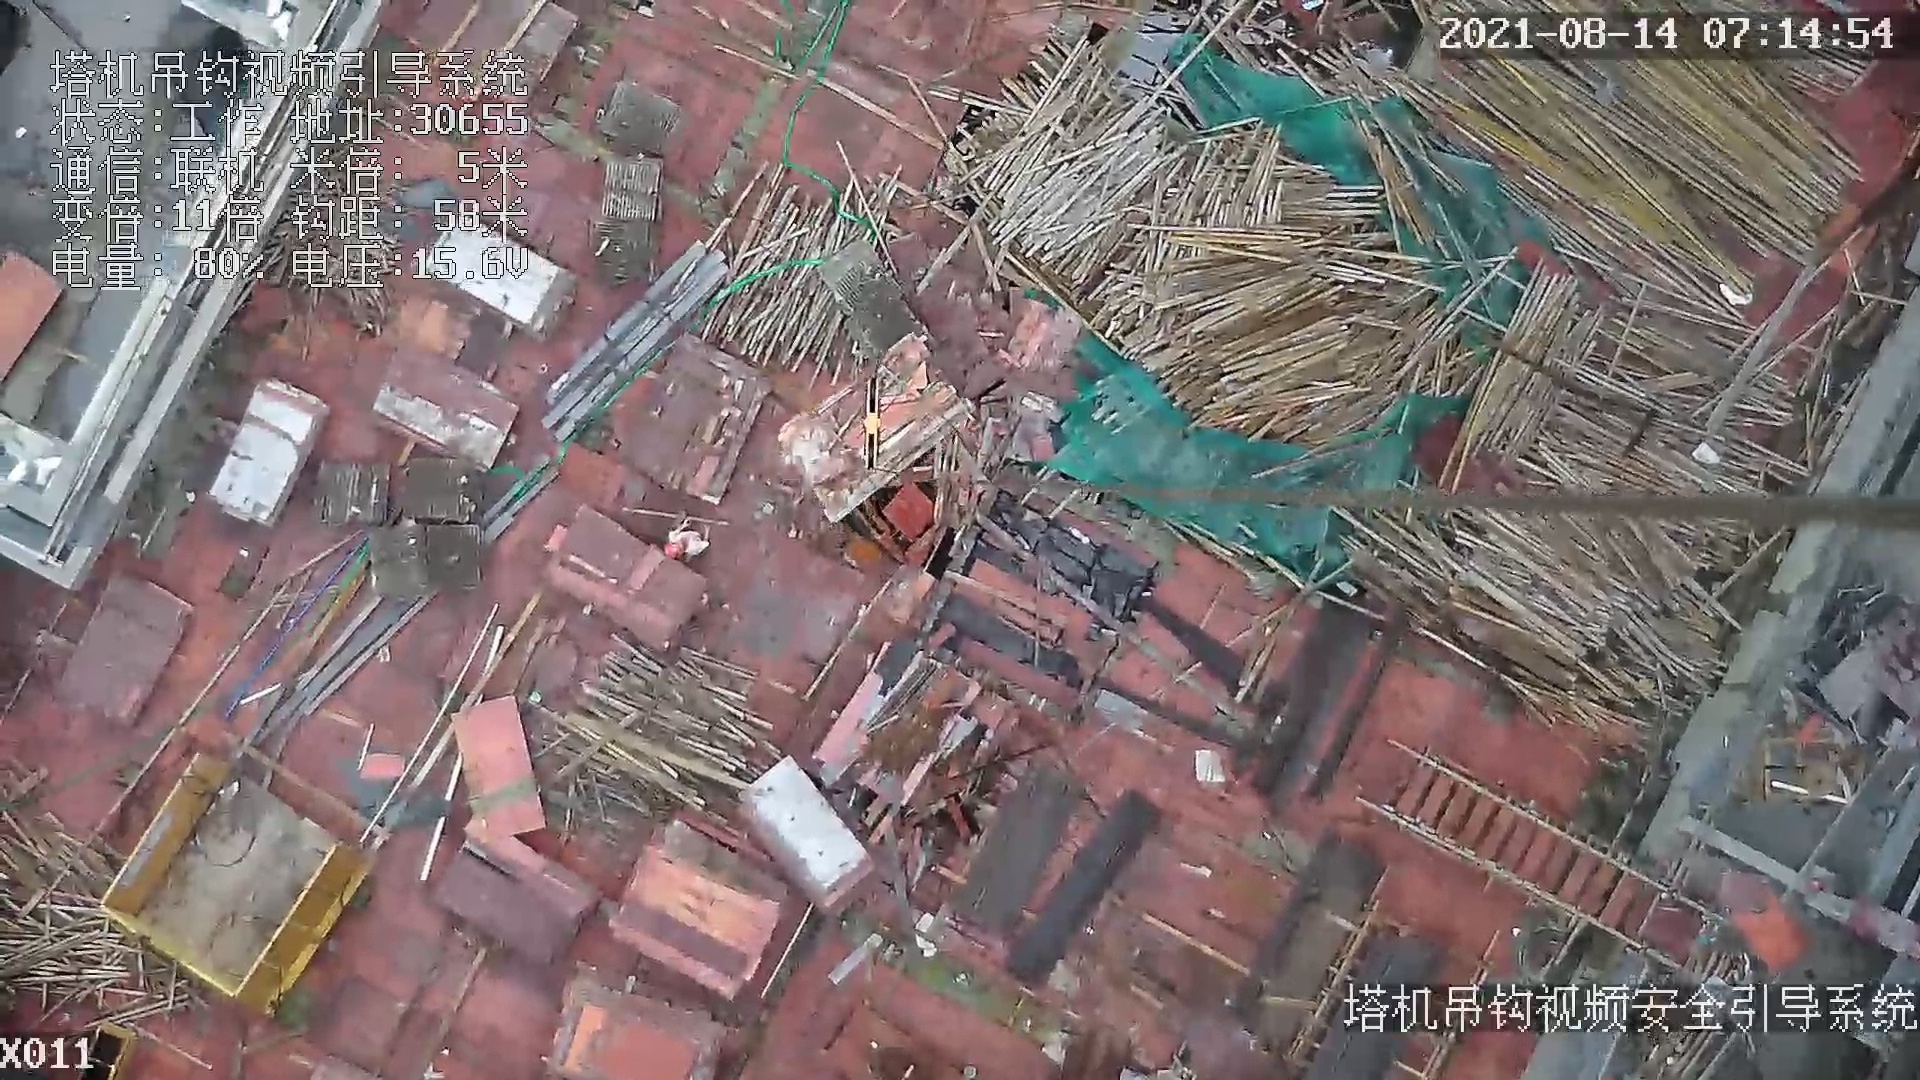helmet: (664, 538, 686, 560)
hook: (859, 372, 888, 477)
person: (654, 512, 715, 565)
